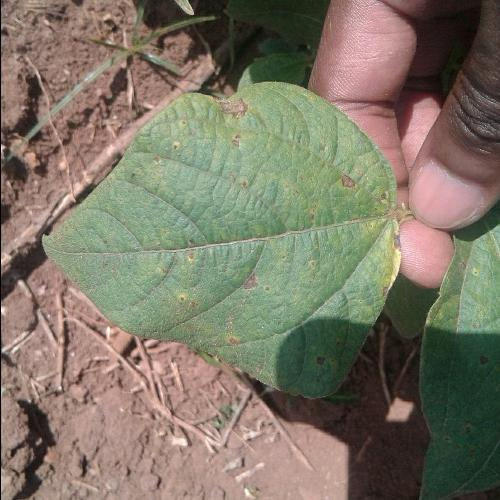hawar: (144, 229, 216, 344), (194, 92, 254, 156), (333, 161, 363, 202), (234, 266, 264, 306), (220, 321, 246, 358)
